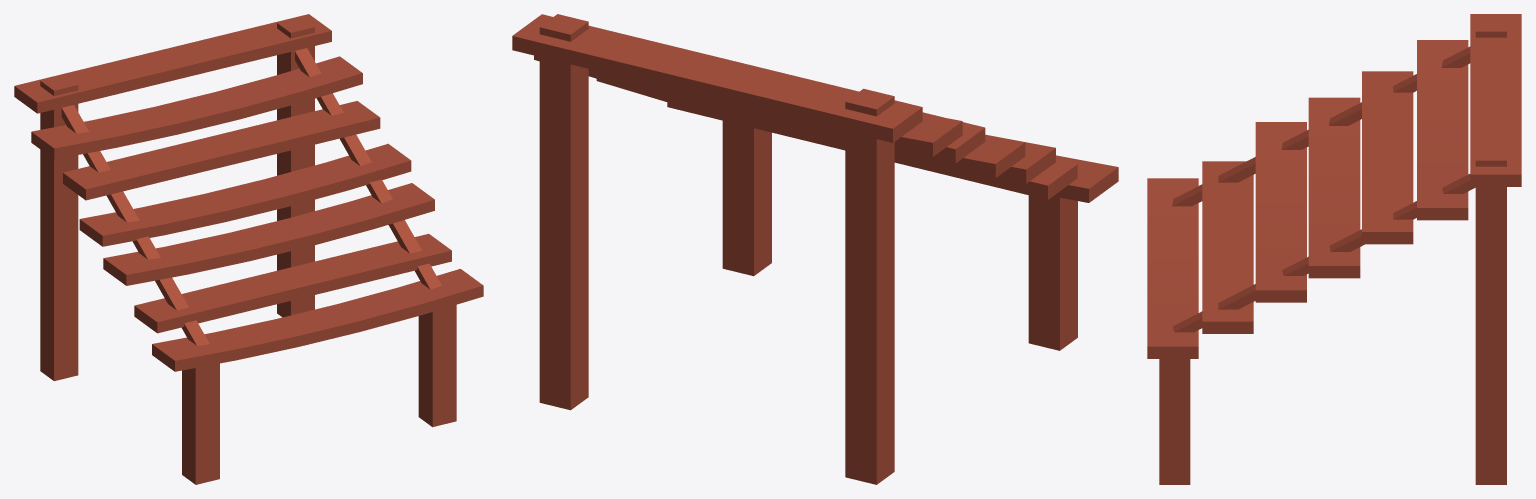
File: SM_platform_stairs_wooden.fbx
3 views of the same model, side by side, from view 1: azimuth 30°, elevation 25°; view 2: azimuth 150°, elevation 25°; view 3: azimuth 270°, elevation 25° (orthographic). The views are drawn at different scales.
Visible parts, largest first — view 1: Box461; view 2: Box461; view 3: Box461.
Part boxes in pixels (bbox=[...]): Box461: bbox=[14, 14, 483, 484]; Box461: bbox=[512, 14, 1118, 484]; Box461: bbox=[1147, 14, 1521, 484].
Bounding box in the file's own units: 101 × 90.85 × 95.02.
